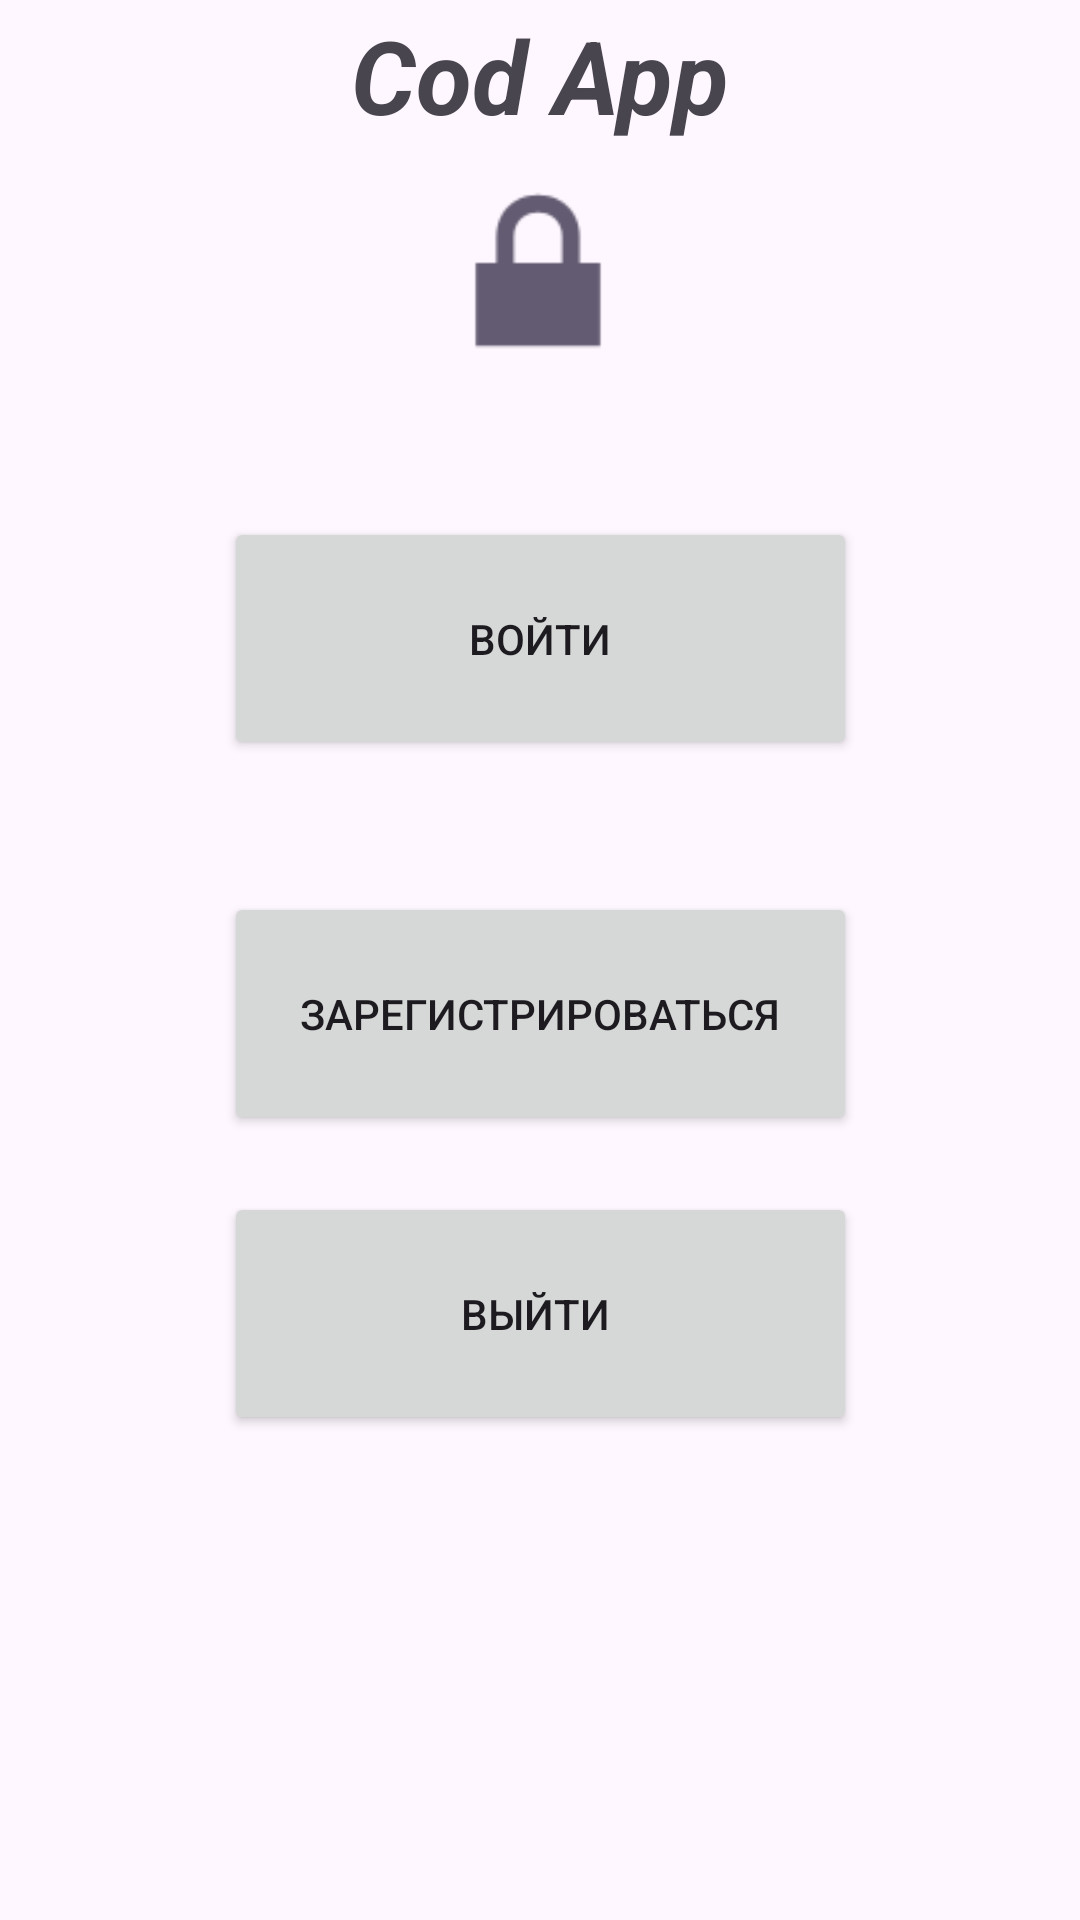

Icon click points for this 1080×1920 phone screenshot, format (x=x, y=y):
lock: (x=538, y=270)
